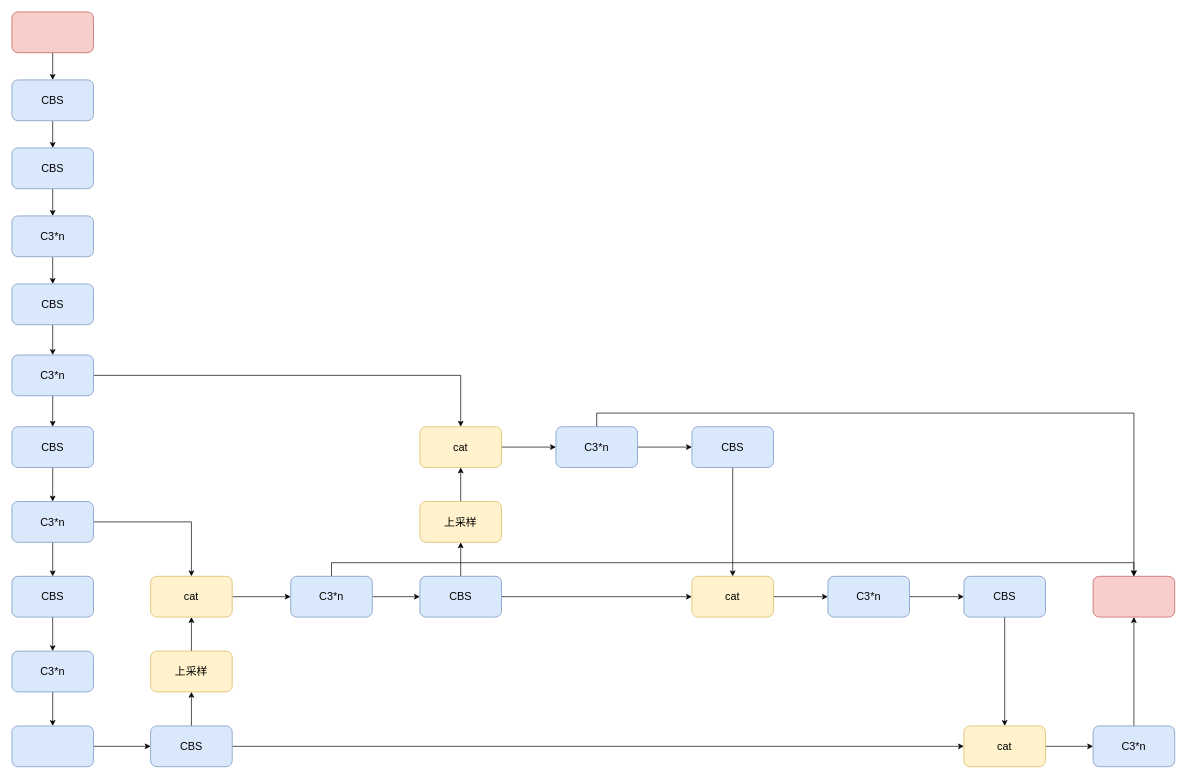
The diagram is 1187 pixels wide and 779 high, and some of its shapes have lost their labels. Here are the shapes that lost their labels. From the top down, the centre of each, then its label:
At (52,32): "input".
At (1133,596): "output".
At (52,746): "SPPF".
